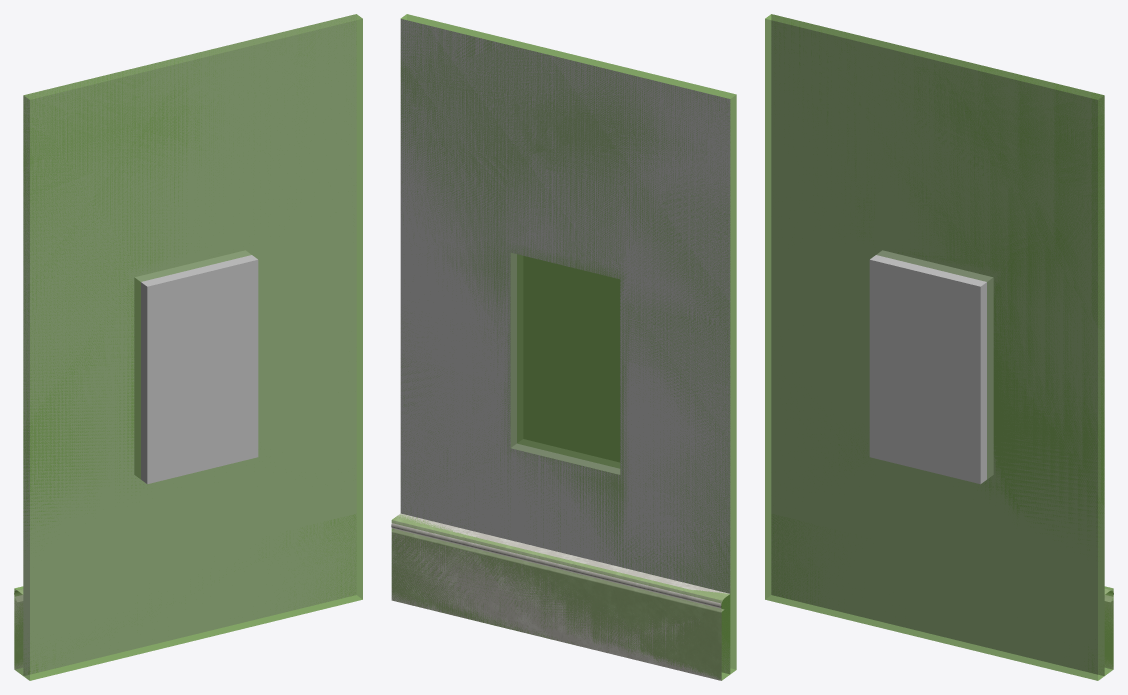
The model's file is F3_md_StreetWall_5x3_WS_01.fbx.
3 views of the same model, side by side, from view 1: azimuth 30°, elevation 25°; view 2: azimuth 150°, elevation 25°; view 3: azimuth 330°, elevation 25° (orthographic).
Visible parts, largest first — view 1: F3_md_StreetWall_5x3_WS_01_LOD0, F3_md_StreetWall_5x3_WS_01_col_02, F3_md_StreetWall_5x3_WS_01_col_01; view 2: F3_md_StreetWall_5x3_WS_01_LOD0, F3_md_StreetWall_5x3_WS_01_col_02, F3_md_StreetWall_5x3_WS_01_col_01; view 3: F3_md_StreetWall_5x3_WS_01_LOD0, F3_md_StreetWall_5x3_WS_01_col_02, F3_md_StreetWall_5x3_WS_01_col_01.
Part boxes in pixels (x1,y1,x2,y2): F3_md_StreetWall_5x3_WS_01_LOD0: (14, 14, 356, 675); F3_md_StreetWall_5x3_WS_01_col_02: (23, 14, 362, 680); F3_md_StreetWall_5x3_WS_01_col_01: (14, 515, 355, 675); F3_md_StreetWall_5x3_WS_01_LOD0: (391, 19, 730, 680); F3_md_StreetWall_5x3_WS_01_col_02: (400, 14, 736, 674); F3_md_StreetWall_5x3_WS_01_col_01: (391, 514, 730, 680); F3_md_StreetWall_5x3_WS_01_LOD0: (771, 14, 1113, 675); F3_md_StreetWall_5x3_WS_01_col_02: (765, 14, 1104, 680); F3_md_StreetWall_5x3_WS_01_col_01: (772, 516, 1113, 675).
Size of what is drawn, in the model's own units: 300 by 500 by 34.72.
